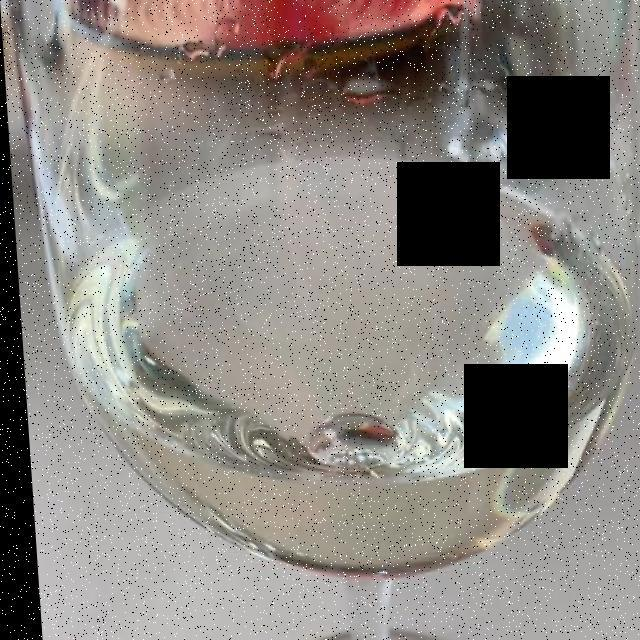wine: (84, 147, 618, 594)
